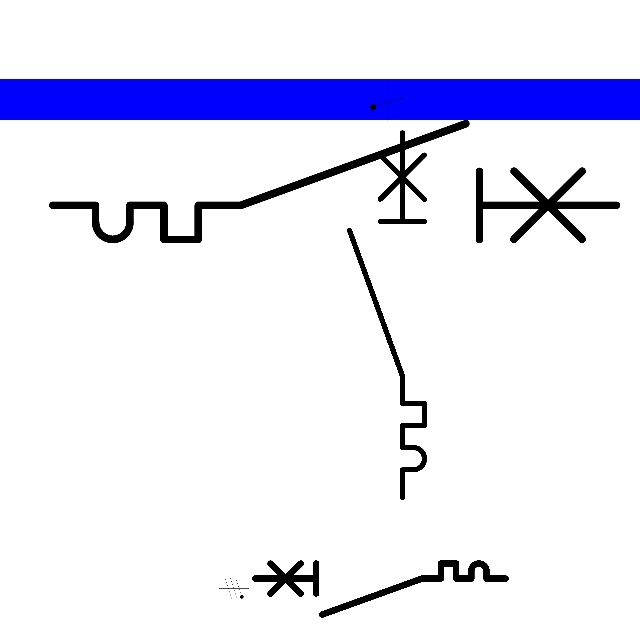interruptor_termomagnetico: (38, 109, 631, 254), (340, 123, 434, 506), (248, 557, 511, 621)
